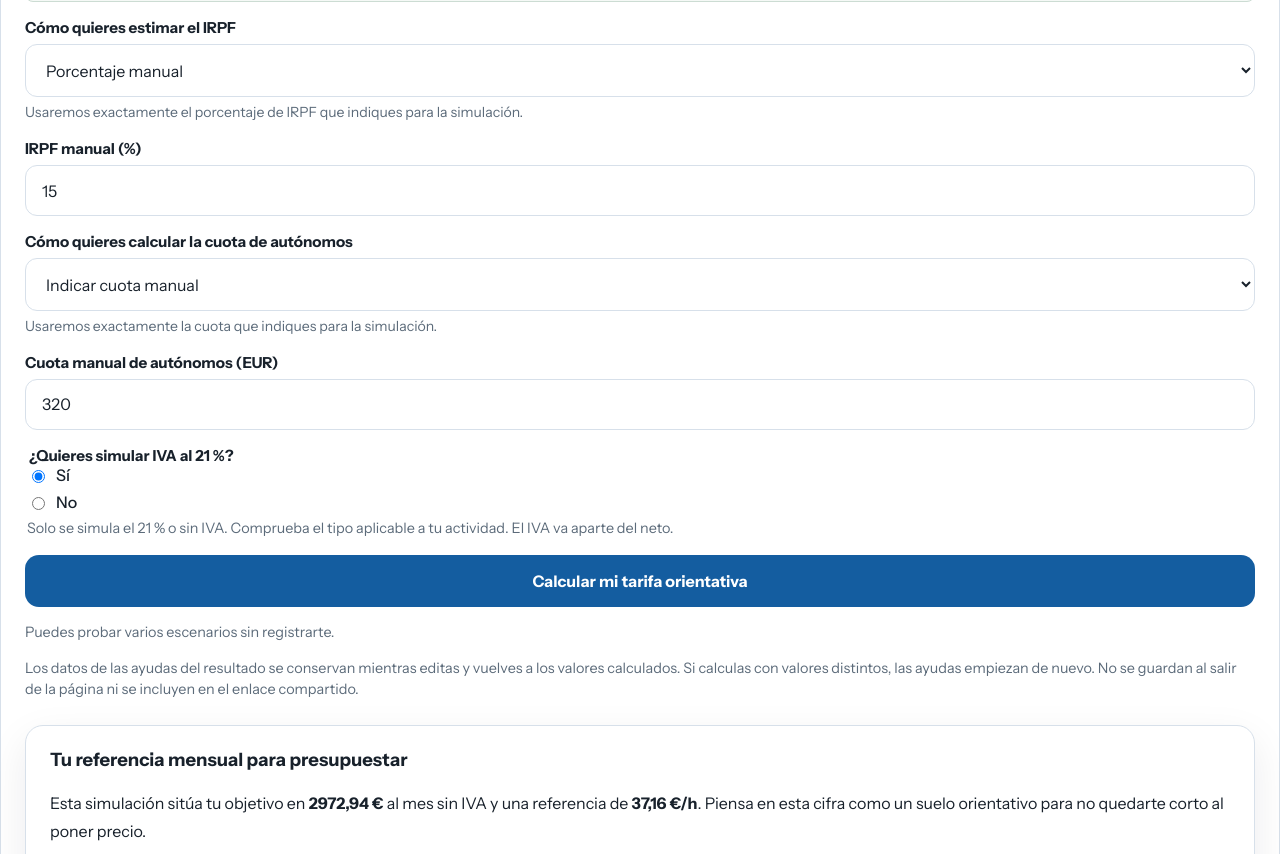
Scenario: calculated results and shared scenarios stay together › requires recalculation after editing Cuota manual de autónomos (EUR)
(page scrolled)
Step 1. Replace the text in the number field labelled "Cuota manual de autónomos (EUR)" with "350" → [640, 404], box top-left (25, 379), bottom-right (1255, 430)
(page scrolled)
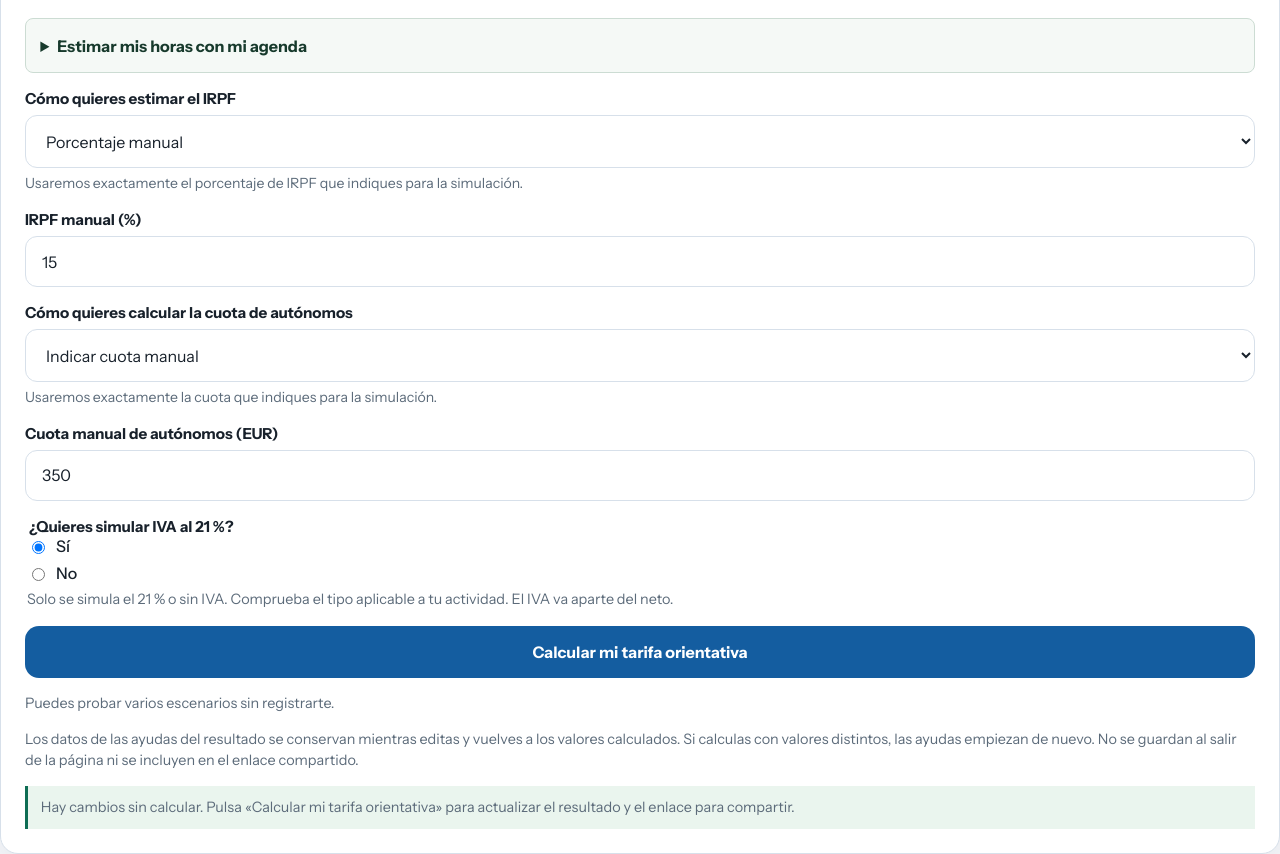
Result: the heading "Tu referencia mensual para presupuestar" is gone
Result: the message shows "Hay cambios sin calcular" at top-left (41, 798), bottom-right (795, 816)
